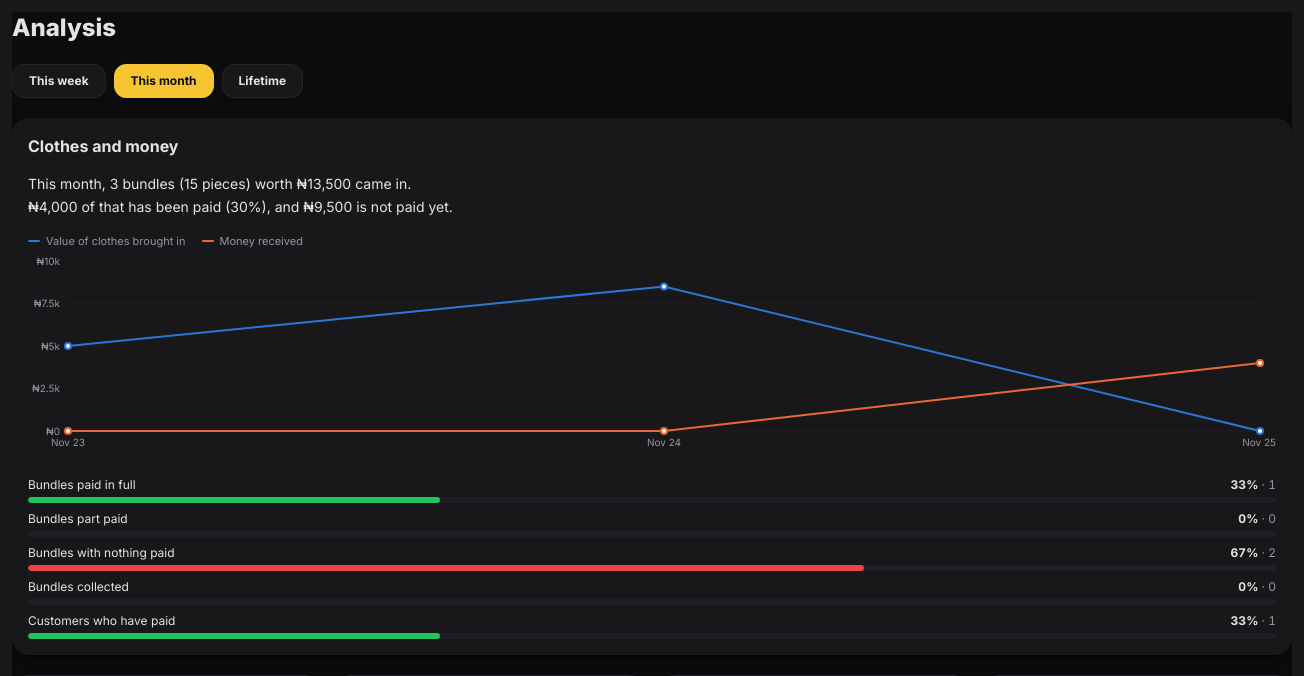
Test case: a laundry's Analysis page › has one set of range buttons, and they move the story
Expected: the element with test id "flow-story" shows "This month", [28, 175, 411, 192]
Click the button "This week" at x=59, y=81, box [12, 64, 106, 98]
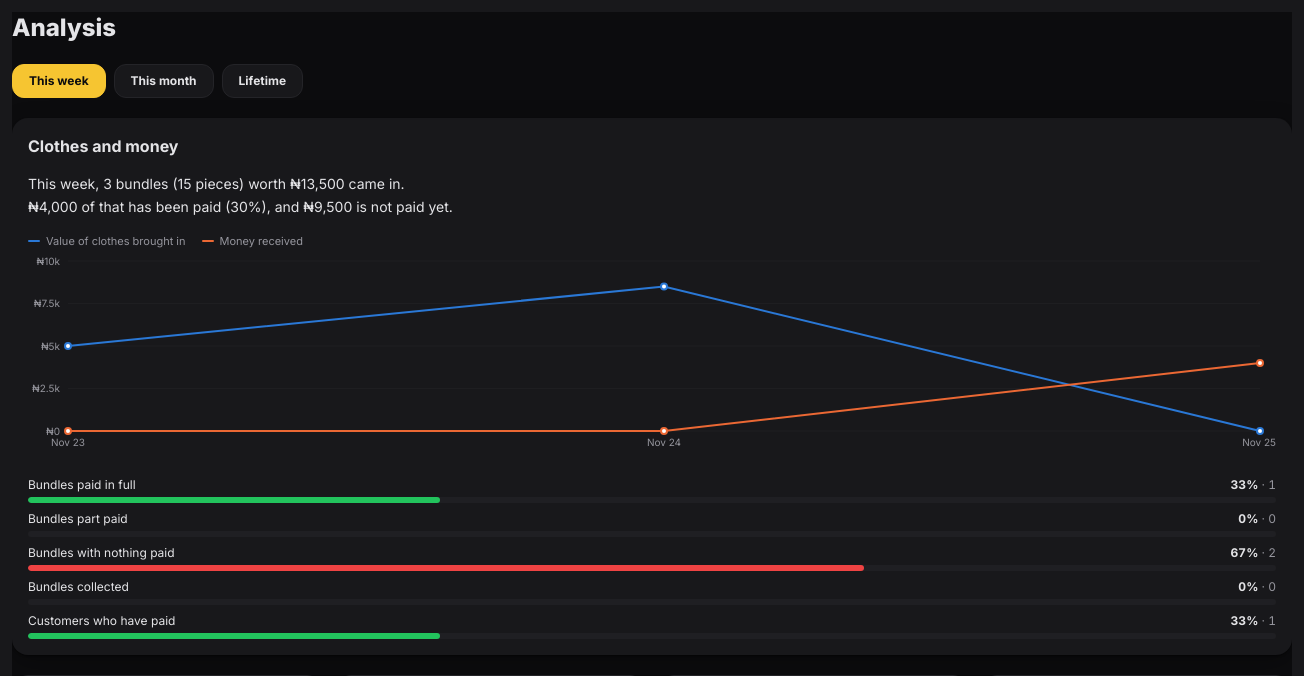
Expected: the element with test id "flow-story" shows "This week", [28, 175, 405, 192]
